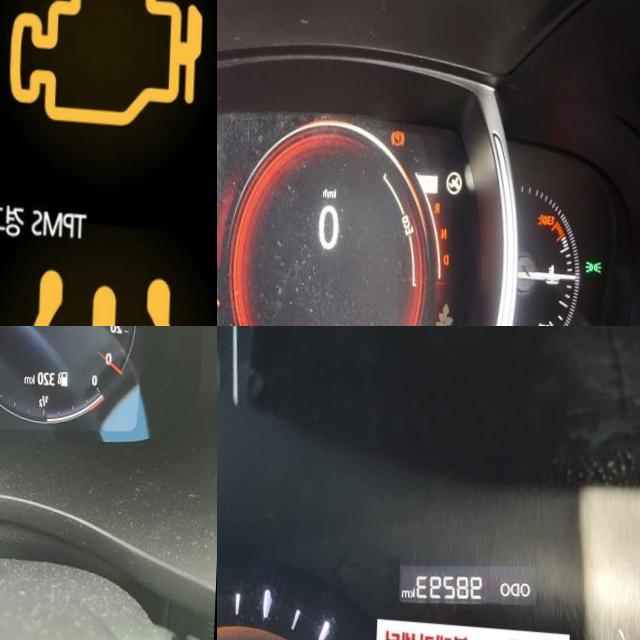SideLamp: (588, 248, 606, 264)
